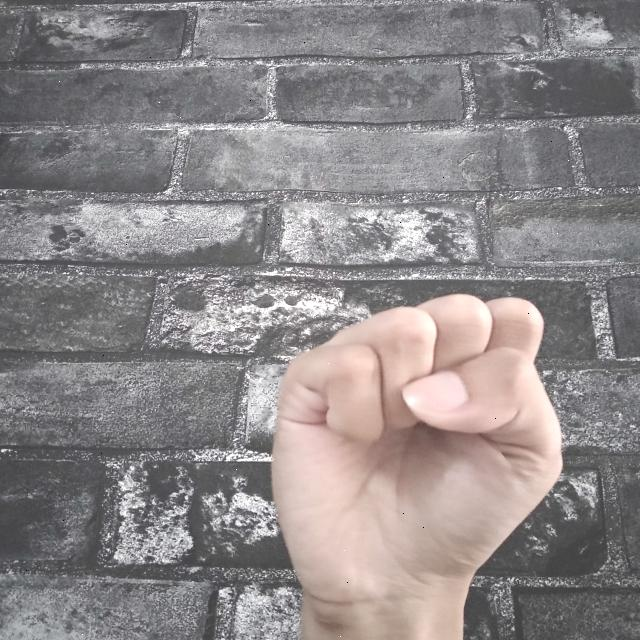S: (260, 285, 568, 640)
